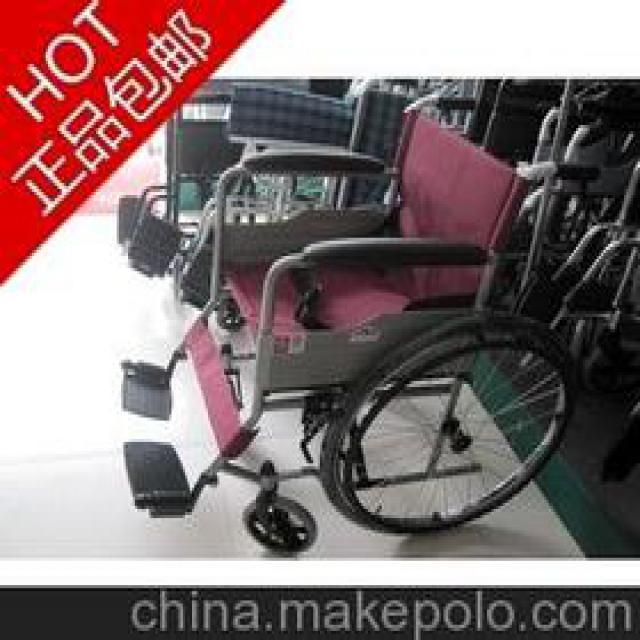wheelchairs: (124, 92, 574, 552)
